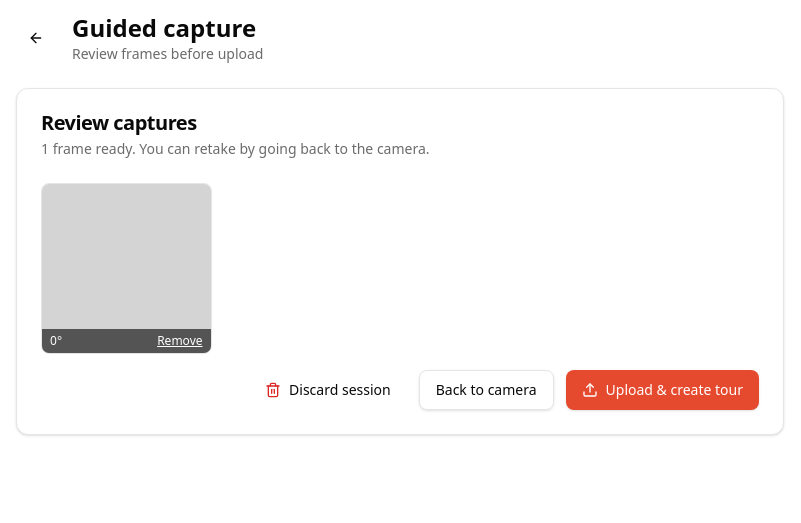
Test: GuidedCapturePage capture state machine › records a failed session when a frame upload fails, and returns to review
Click the button "Upload & create tour" at (662, 390), box [566, 370, 759, 410]
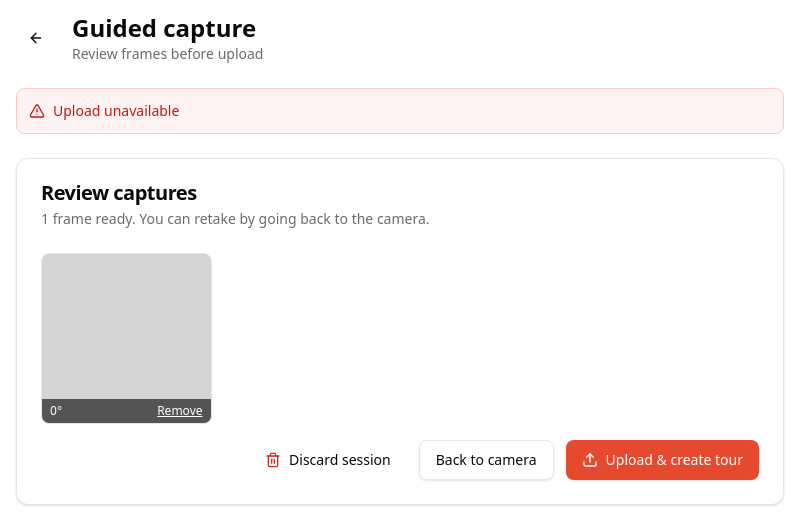
Check: the button "Upload & create tour" is enabled, box [566, 440, 759, 480]
Check: the message reads "Upload unavailable", box [53, 101, 179, 120]
